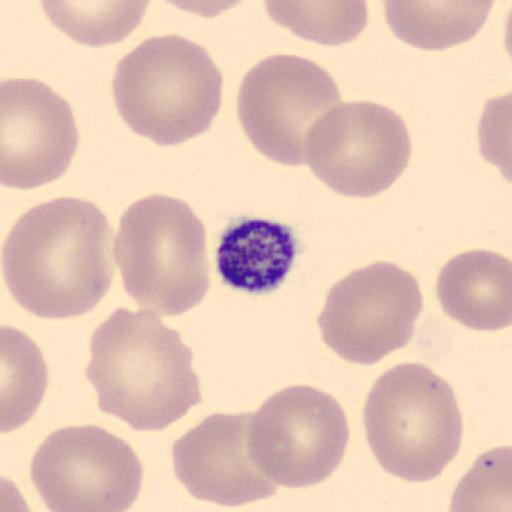Platelet: (212, 212, 300, 296)
RBC: (84, 304, 202, 434), (1, 193, 114, 322), (110, 33, 224, 148), (360, 360, 464, 485), (234, 51, 342, 170), (112, 191, 211, 318), (316, 260, 425, 368), (246, 382, 350, 491), (303, 99, 414, 200), (171, 410, 280, 508), (29, 423, 145, 512), (2, 77, 80, 191), (435, 247, 512, 333), (381, 0, 498, 51), (36, 0, 152, 48), (1, 323, 50, 434), (261, 0, 370, 48), (448, 443, 512, 512), (476, 89, 512, 186), (148, 0, 256, 20), (2, 474, 48, 512), (1, 474, 33, 512), (502, 0, 512, 83), (503, 0, 512, 68)
